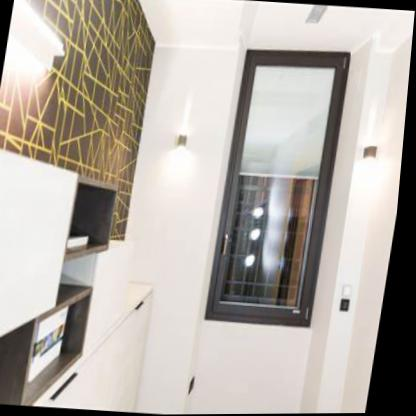Window: (210, 44, 355, 329)
